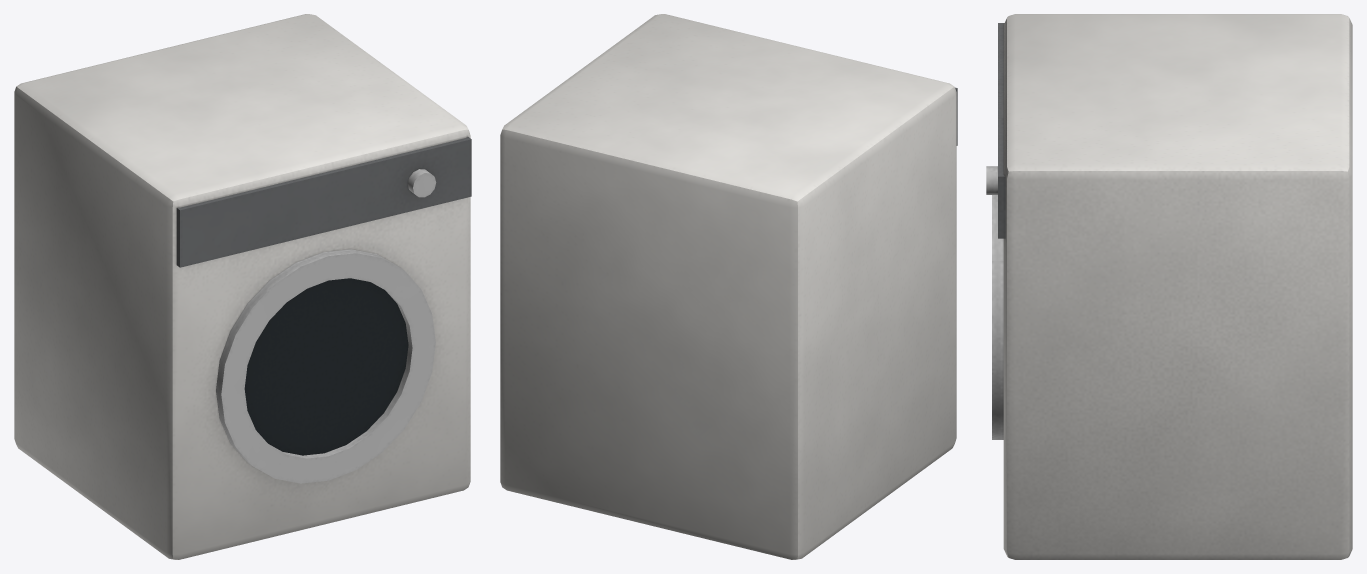
Rendered from H_WashingMachine.fbx.
3 views of the same model, side by side, from view 1: azimuth 30°, elevation 25°; view 2: azimuth 150°, elevation 25°; view 3: azimuth 270°, elevation 25° (orthographic). The views are drawn at different scales.
Visible parts, largest first — view 1: H_WashingMachine; view 2: H_WashingMachine; view 3: H_WashingMachine.
Boxes of the visible parts, bbox=[...] form: H_WashingMachine: bbox=[14, 14, 471, 559]; H_WashingMachine: bbox=[500, 14, 957, 559]; H_WashingMachine: bbox=[986, 14, 1352, 559].
Size of the model in its own units: 260 by 300 by 252.
Materials: 1 (1 with a texture image).
